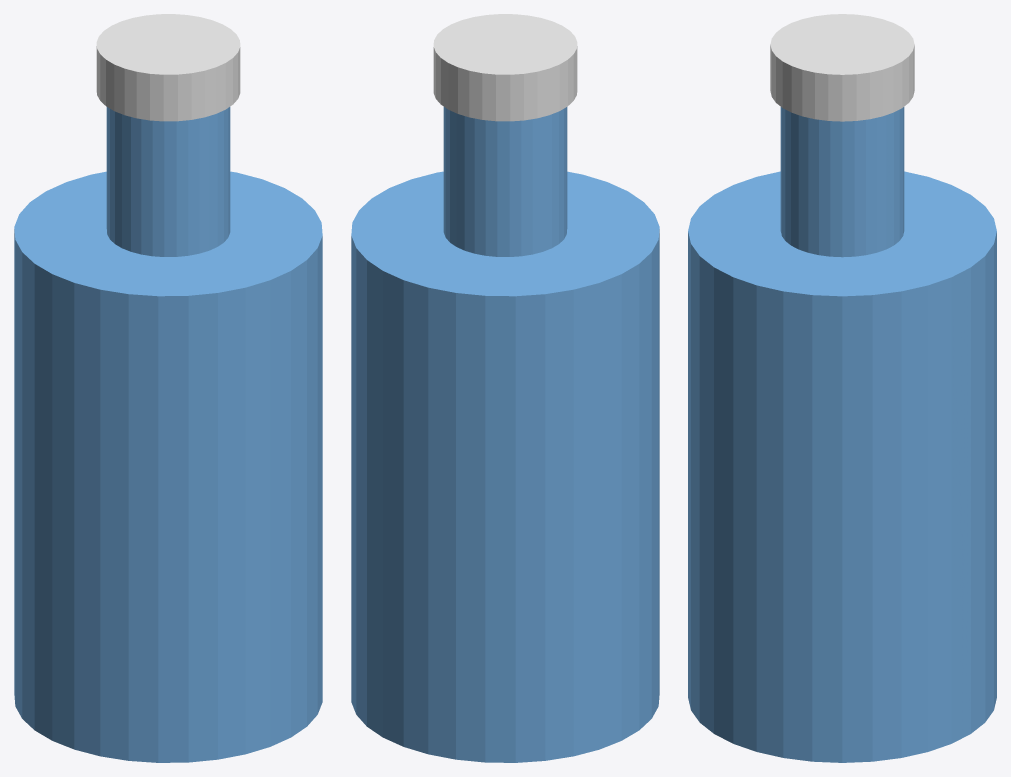
The model's file is water_bottle.glb.
3 renders of one model, left to right at view 1: azimuth 30°, elevation 25°; view 2: azimuth 150°, elevation 25°; view 3: azimuth 270°, elevation 25°, orthographic.
Visible parts, largest first — view 1: WaterBottle_Body, WaterBottle_Neck, WaterBottle_Cap; view 2: WaterBottle_Body, WaterBottle_Neck, WaterBottle_Cap; view 3: WaterBottle_Body, WaterBottle_Neck, WaterBottle_Cap.
Boxes of the visible parts, x1,y1,x2,y2 form: WaterBottle_Body: (14,171,322,762); WaterBottle_Neck: (106,107,230,256); WaterBottle_Cap: (96,14,240,121); WaterBottle_Body: (351,171,659,762); WaterBottle_Neck: (443,107,567,256); WaterBottle_Cap: (433,14,577,121); WaterBottle_Body: (688,171,996,762); WaterBottle_Neck: (780,107,904,257); WaterBottle_Cap: (770,14,914,121).
Size of the model in its own units: 0.3 by 0.7 by 0.3.
